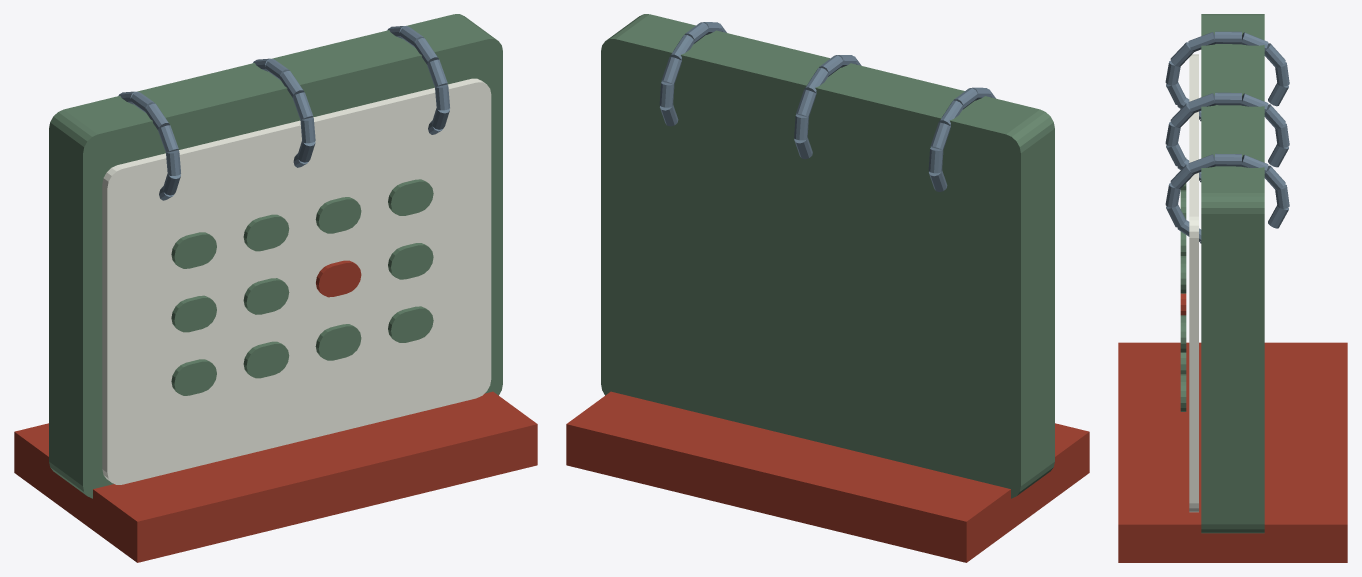
File: deskcalendar.glb
The picture shows the model from 3 angles, left to right: view 1: azimuth 30°, elevation 25°; view 2: azimuth 150°, elevation 25°; view 3: azimuth 270°, elevation 25°; orthographic projection. The views are drawn at different scales.
Parts seen in each view (by area): view 1: calendar page, binding board, rear foot, day 1, day 9, day 4, marked date, day 3, day 5, day 11, day 0, day 7 (+3 smaller); view 2: binding board, rear foot; view 3: rear foot, binding board, calendar page, loop16, loop06, loop26, loop15, loop25, loop05, loop04, loop14, loop24 (+3 smaller).
Boxes of the visible parts, x1,y1,x2,y2 form: calendar page: [102, 78, 491, 484]; binding board: [49, 14, 502, 498]; rear foot: [14, 391, 537, 562]; day 1: [243, 214, 289, 251]; day 9: [243, 341, 289, 378]; day 4: [171, 295, 216, 332]; marked date: [316, 260, 361, 297]; day 3: [388, 179, 433, 215]; day 5: [243, 278, 289, 314]; day 11: [388, 306, 433, 342]; day 0: [171, 232, 216, 268]; day 7: [388, 243, 433, 279]; binding board: [601, 14, 1054, 498]; rear foot: [566, 391, 1089, 562]; rear foot: [1118, 342, 1347, 562]; binding board: [1201, 14, 1264, 533]; calendar page: [1189, 54, 1198, 512]; loop16: [1215, 92, 1241, 105]; loop06: [1215, 31, 1241, 44]; loop26: [1215, 153, 1241, 166]; loop15: [1188, 93, 1215, 113]; loop25: [1188, 154, 1215, 174]; loop05: [1188, 32, 1215, 52]; loop04: [1170, 42, 1193, 66]; loop14: [1170, 103, 1193, 127]; loop24: [1170, 164, 1193, 188].
Bounding box in the file's own units: 1.28 × 1.18 × 0.65.
